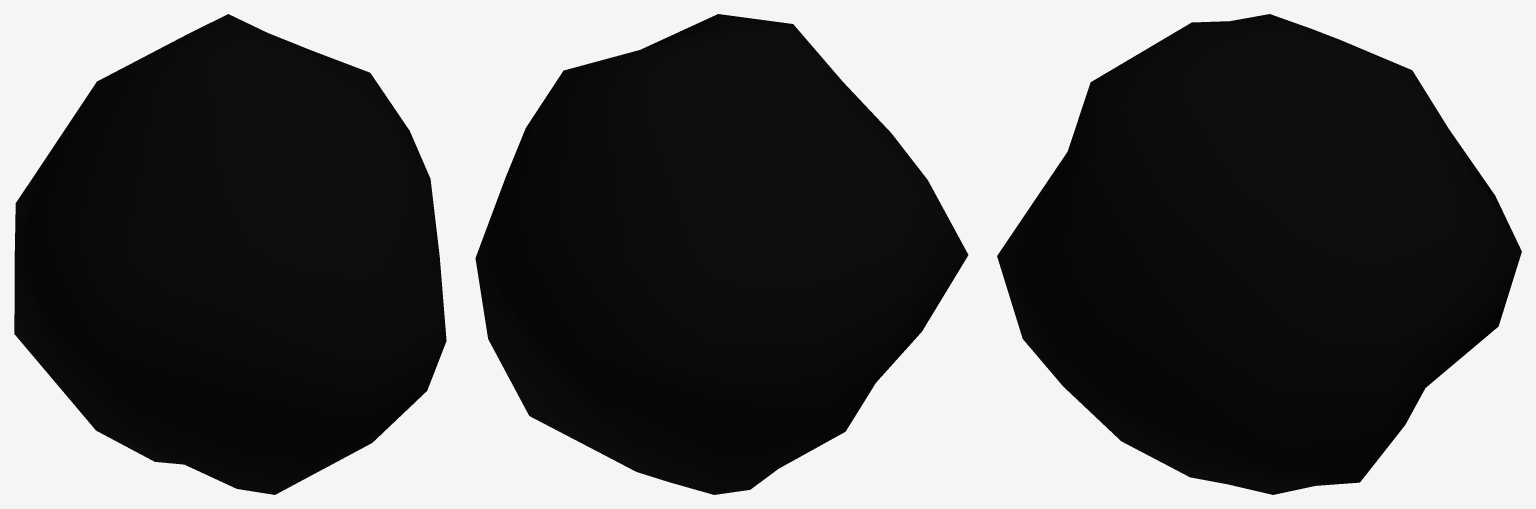
Rendered from ASFTR_BurntFood.fbx.
3 views of the same model, side by side, from view 1: azimuth 30°, elevation 25°; view 2: azimuth 150°, elevation 25°; view 3: azimuth 270°, elevation 25° (orthographic). The views are drawn at different scales.
Visible parts, largest first — view 1: ASFTR_BurntFood; view 2: ASFTR_BurntFood; view 3: ASFTR_BurntFood.
Boxes of the visible parts, x1=… form: ASFTR_BurntFood: x1=14, y1=14, x2=446, y2=494; ASFTR_BurntFood: x1=475, y1=14, x2=968, y2=494; ASFTR_BurntFood: x1=997, y1=14, x2=1521, y2=494.
Size of the model in its own units: 45.26 by 49.47 by 44.79.
